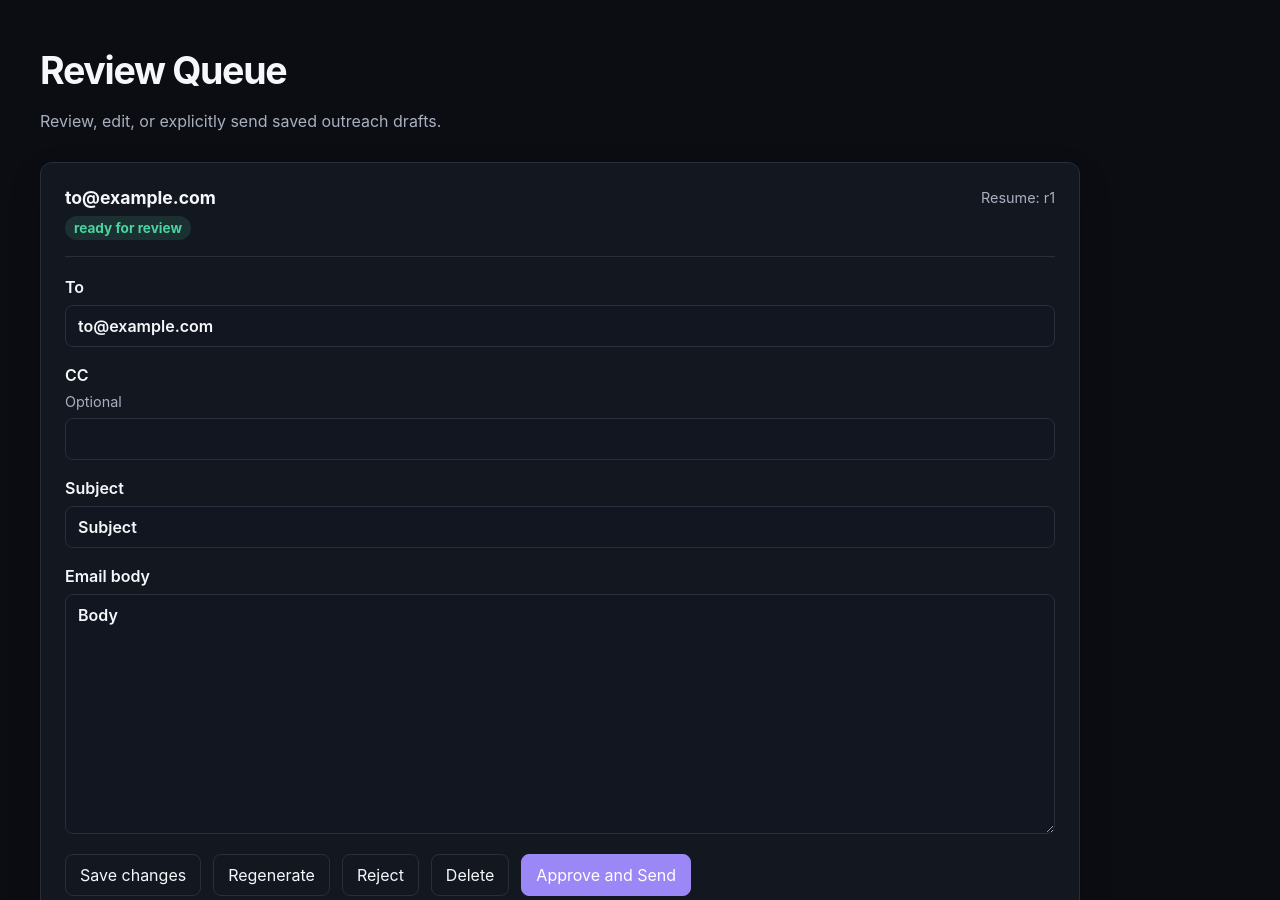
it: ReviewQueuePage › shows a bold accessible failure alert and keeps the draft available for retry
The image size is (1280, 900).
Click the button "Approve and Send" at (606, 875), box [521,854,691,896]
(page scrolled)
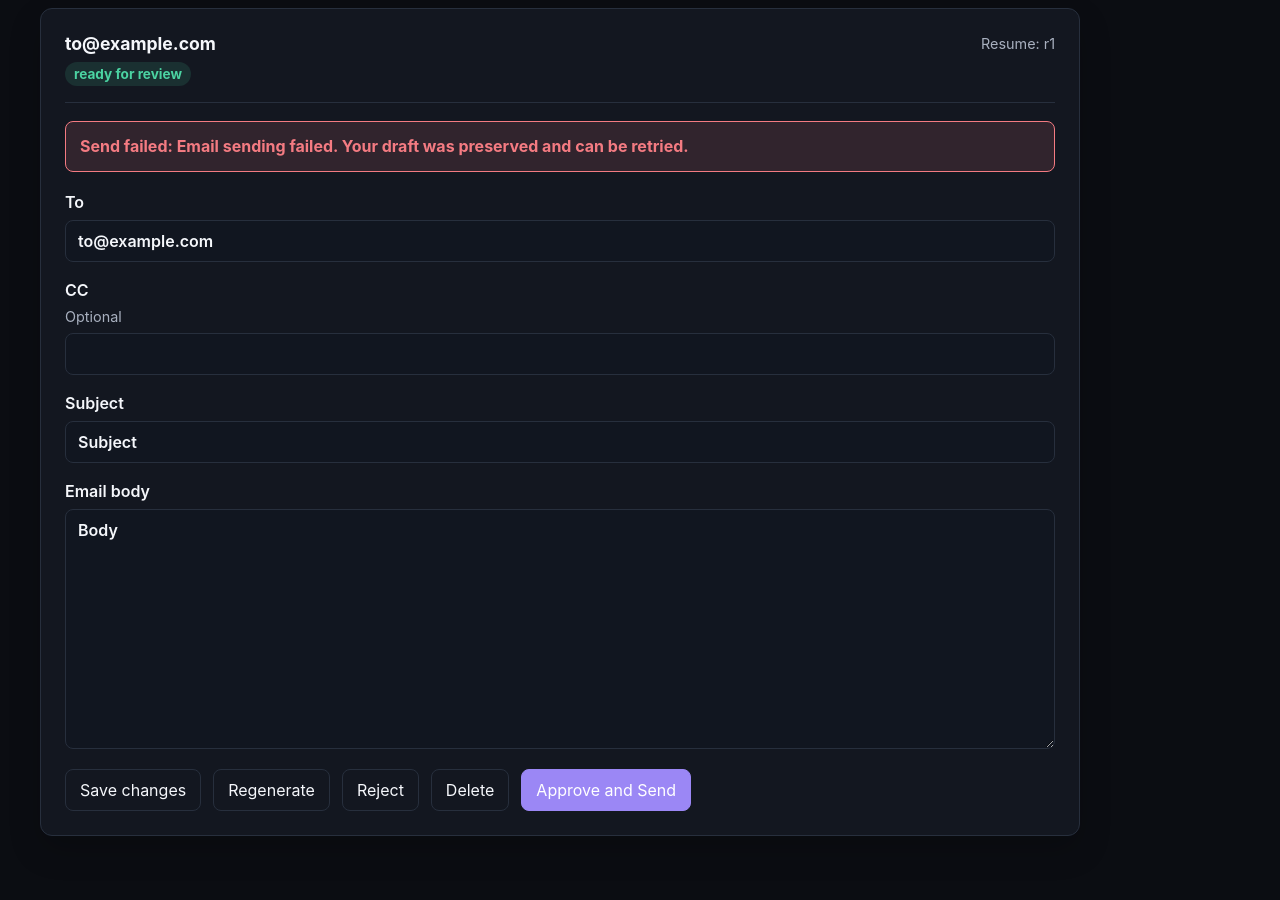
Expected: the button "Approve and Send" is shown, [521,769,691,811]
Now the message reads "Send failed: Email sending failed. Your draft was preserved and can be retried.", box [65,121,1055,172]
